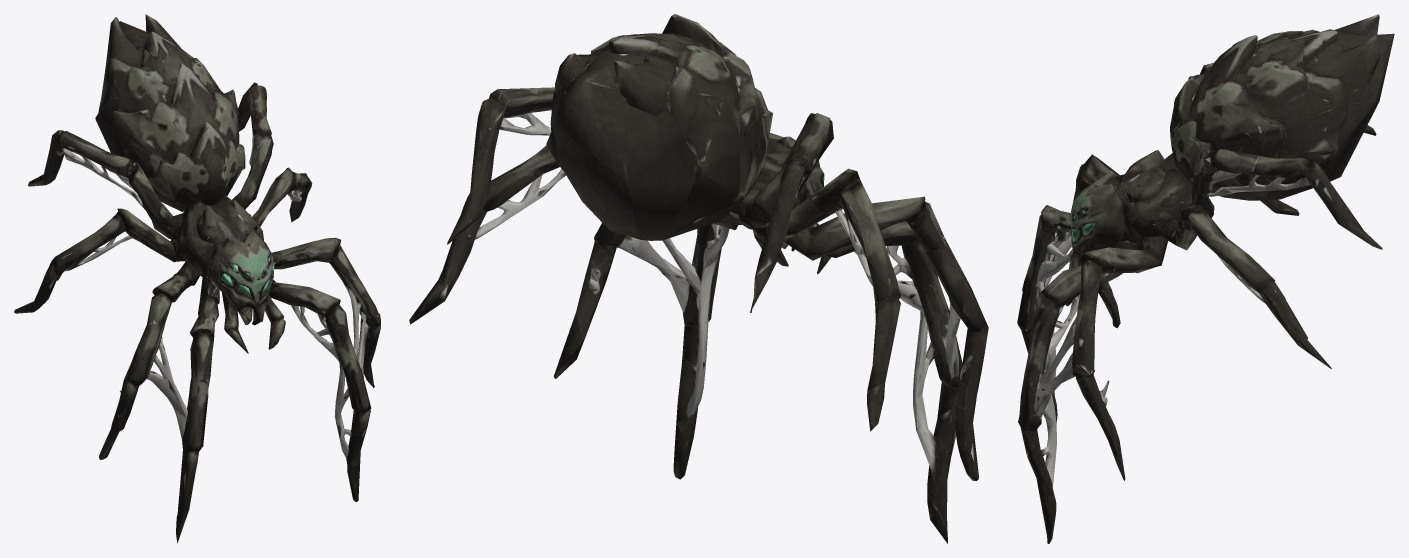
Rendered from silk_stalker.glb.
The picture shows the model from 3 angles, left to right: view 1: azimuth 30°, elevation 25°; view 2: azimuth 150°, elevation 25°; view 3: azimuth 270°, elevation 25°; orthographic projection. The views are drawn at different scales.
Parts seen in each view (by area): view 1: Mesh_0; view 2: Mesh_0; view 3: Mesh_0.
Part boxes in pixels (<box>): Mesh_0: <box>14,14,380,543</box>; Mesh_0: <box>409,14,988,543</box>; Mesh_0: <box>1017,14,1394,543</box>.
Size of the model in its own units: 1.45 by 1.9 by 1.37.
1 material, 1 textured.
